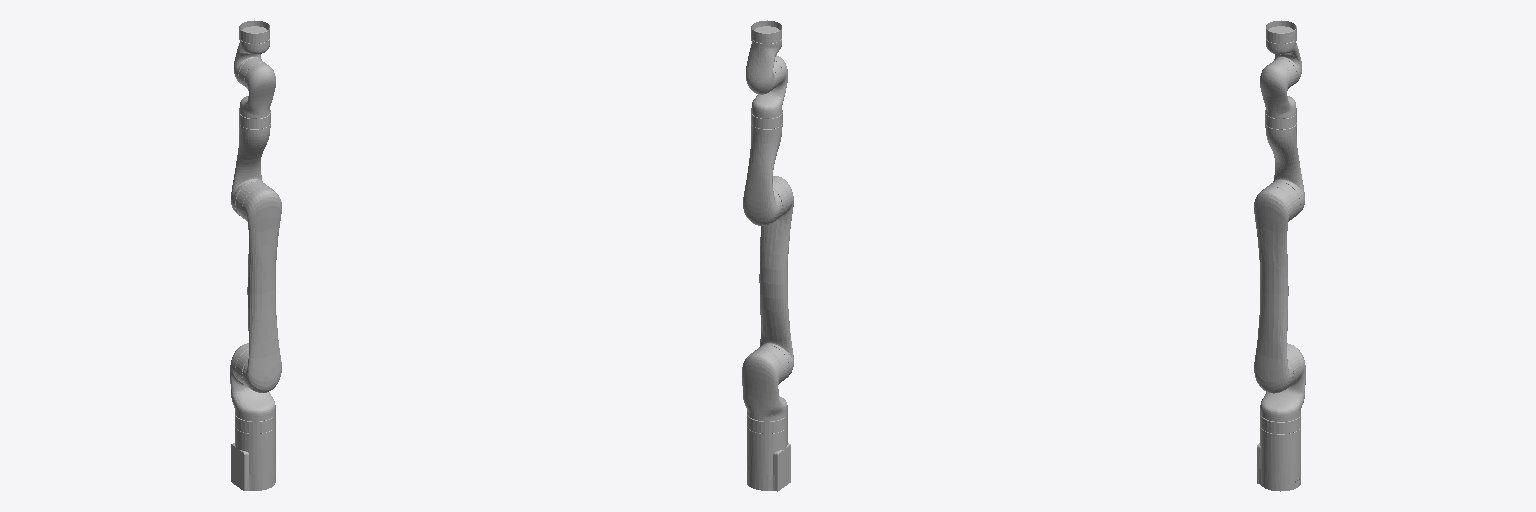
robot.urdf — GEN3-6DOF_NO-VISION_URDF_ARM_V01:
<robot name="GEN3-6DOF_NO-VISION_URDF_ARM_V01" version="1.0">
  <link name="base_link">
    <inertial>
      <origin xyz="-0.000648 -0.000166 0.084487" rpy="0 0 0" />
      <mass value="1.697" />
      <inertia ixx="0.004622" ixy="9E-06" ixz="6E-05" iyy="0.004495" iyz="9E-06" izz="0.002079" />
    </inertial>
    <visual>
      <origin xyz="0 0 0" rpy="0 0 0" />
      <geometry>
        <mesh filename="package://kortex_description/arms/gen3/6dof/meshes/base_link.STL" />
      </geometry>
      <material name="">
        <color rgba="0.75294 0.75294 0.75294 1" />
      </material>
    </visual>
    <collision>
      <origin xyz="0 0 0" rpy="0 0 0" />
      <geometry>
        <mesh filename="package://kortex_description/arms/gen3/6dof/meshes/base_link.STL" />
      </geometry>
    </collision>
  </link>
  <link name="shoulder_link">
    <inertial>
      <origin xyz="-2.3E-05 -0.010364 -0.07336" rpy="0 0 0" />
      <mass value="1.377" />
      <inertia ixx="0.00457" ixy="1E-06" ixz="2E-06" iyy="0.004831" iyz="0.000448" izz="0.001409" />
    </inertial>
    <visual>
      <origin xyz="0 0 0" rpy="0 0 0" />
      <geometry>
        <mesh filename="package://kortex_description/arms/gen3/6dof/meshes/shoulder_link.STL" />
      </geometry>
      <material name="">
        <color rgba="0.75294 0.75294 0.75294 1" />
      </material>
    </visual>
    <collision>
      <origin xyz="0 0 0" rpy="0 0 0" />
      <geometry>
        <mesh filename="package://kortex_description/arms/gen3/6dof/meshes/shoulder_link.STL" />
      </geometry>
    </collision>
  </link>
  <joint name="joint_1" type="continuous">
    <origin xyz="0 0 0.15643" rpy="-3.1416 0 0" />
    <parent link="base_link" />
    <child link="shoulder_link" />
    <axis xyz="0 0 1" />
    <limit effort="39" velocity="0.8727" />
  </joint>
  <link name="bicep_link">
    <inertial>
      <origin xyz="3.5E-05 -0.208207 -0.01889" rpy="0 0 0" />
      <mass value="1.262" />
      <inertia ixx="0.046752" ixy="-9E-06" ixz="0" iyy="0.00085" iyz="-9.8E-05" izz="0.047188" />
    </inertial>
    <visual>
      <origin xyz="0 0 0" rpy="0 0 0" />
      <geometry>
        <mesh filename="package://kortex_description/arms/gen3/6dof/meshes/bicep_link.STL" />
      </geometry>
      <material name="">
        <color rgba="0.75294 0.75294 0.75294 1" />
      </material>
    </visual>
    <collision>
      <origin xyz="0 0 0" rpy="0 0 0" />
      <geometry>
        <mesh filename="package://kortex_description/arms/gen3/6dof/meshes/bicep_link.STL" />
      </geometry>
    </collision>
  </link>
  <joint name="joint_2" type="revolute">
    <origin xyz="0 0.005375 -0.12838" rpy="1.5708 0 0" />
    <parent link="shoulder_link" />
    <child link="bicep_link" />
    <axis xyz="0 0 1" />
    <limit lower="-2.41" upper="2.41" effort="39" velocity="0.8727" />
  </joint>
  <link name="forearm_link">
    <inertial>
      <origin xyz="1.8E-05 0.076168 -0.01397" rpy="0 0 0" />
      <mass value="0.93" />
      <inertia ixx="0.008292" ixy="-1E-06" ixz="0" iyy="0.000628" iyz="0.000432" izz="0.008464" />
    </inertial>
    <visual>
      <origin xyz="0 0 0" rpy="0 0 0" />
      <geometry>
        <mesh filename="package://kortex_description/arms/gen3/6dof/meshes/forearm_link.STL" />
      </geometry>
      <material name="">
        <color rgba="0.75294 0.75294 0.75294 1" />
      </material>
    </visual>
    <collision>
      <origin xyz="0 0 0" rpy="0 0 0" />
      <geometry>
        <mesh filename="package://kortex_description/arms/gen3/6dof/meshes/forearm_link.STL" />
      </geometry>
    </collision>
  </link>
  <joint name="joint_3" type="revolute">
    <origin xyz="0 -0.41 0" rpy="3.1416 0 0" />
    <parent link="bicep_link" />
    <child link="forearm_link" />
    <axis xyz="0 0 1" />
    <limit lower="-2.66" upper="2.66" effort="39" velocity="0.8727" />
  </joint>
  <link name="spherical_wrist_1_link">
    <inertial>
      <origin xyz="-1E-06 0.008486 -0.062937" rpy="0 0 0" />
      <mass value="0.678" />
      <inertia ixx="0.001645" ixy="0" ixz="0" iyy="0.001666" iyz="-0.000234" izz="0.000389" />
    </inertial>
    <visual>
      <origin xyz="0 0 0" rpy="0 0 0" />
      <geometry>
        <mesh filename="package://kortex_description/arms/gen3/6dof/meshes/spherical_wrist_1_link.STL" />
      </geometry>
      <material name="">
        <color rgba="0.75294 0.75294 0.75294 1" />
      </material>
    </visual>
    <collision>
      <origin xyz="0 0 0" rpy="0 0 0" />
      <geometry>
        <mesh filename="package://kortex_description/arms/gen3/6dof/meshes/spherical_wrist_1_link.STL" />
      </geometry>
    </collision>
  </link>
  <joint name="joint_4" type="continuous">
    <origin xyz="0 0.20843 -0.006375" rpy="1.5708 0 0" />
    <parent link="forearm_link" />
    <child link="spherical_wrist_1_link" />
    <axis xyz="0 0 1" />
    <limit effort="9" velocity="0.8727" />
  </joint>
  <link name="spherical_wrist_2_link">
    <inertial>
      <origin xyz="-1E-06 0.046429 -0.008704" rpy="0 0 0" />
      <mass value="0.678" />
      <inertia ixx="0.001685" ixy="0" ixz="0" iyy="0.0004" iyz="0.000255" izz="0.001696" />
    </inertial>
    <visual>
      <origin xyz="0 0 0" rpy="0 0 0" />
      <geometry>
        <mesh filename="package://kortex_description/arms/gen3/6dof/meshes/spherical_wrist_2_link.STL" />
      </geometry>
      <material name="">
        <color rgba="0.75294 0.75294 0.75294 1" />
      </material>
    </visual>
    <collision>
      <origin xyz="0 0 0" rpy="0 0 0" />
      <geometry>
        <mesh filename="package://kortex_description/arms/gen3/6dof/meshes/spherical_wrist_2_link.STL" />
      </geometry>
    </collision>
  </link>
  <joint name="joint_5" type="revolute">
    <origin xyz="0 -0.00017505 -0.10593" rpy="-1.5708 0 0" />
    <parent link="spherical_wrist_1_link" />
    <child link="spherical_wrist_2_link" />
    <axis xyz="0 0 1" />
    <limit lower="-2.23" upper="2.23" effort="9" velocity="0.8727" />
  </joint>
  <link name="bracelet_link">
    <inertial>
      <origin xyz="-9.3E-05 0.000132 -0.022905" rpy="0 0 0" />
      <mass value="0.364" />
      <inertia ixx="0.000214" ixy="0" ixz="1E-06" iyy="0.000223" iyz="-2E-06" izz="0.00024" />
    </inertial>
    <visual>
      <origin xyz="0 0 0" rpy="0 0 0" />
      <geometry>
        <mesh filename="package://kortex_description/arms/gen3/6dof/meshes/bracelet_no_vision_link.STL" />
      </geometry>
      <material name="">
        <color rgba="0.75294 0.75294 0.75294 1" />
      </material>
    </visual>
    <collision>
      <origin xyz="0 0 0" rpy="0 0 0" />
      <geometry>
        <mesh filename="package://kortex_description/arms/gen3/6dof/meshes/bracelet_no_vision_link.STL" />
      </geometry>
    </collision>
  </link>
  <joint name="joint_6" type="continuous">
    <origin xyz="0 0.10593 -0.00017505" rpy="1.5708 0 0" />
    <parent link="spherical_wrist_2_link" />
    <child link="bracelet_link" />
    <axis xyz="0 0 1" />
    <limit effort="9" velocity="0.8727" />
  </joint>
  <link name="EndEffector_Link" />
  <joint name="EndEffector" type="fixed">
    <origin xyz="0 0 -0.061525" rpy="3.1416 0 -3.1416" />
    <parent link="bracelet_link" />
    <child link="EndEffector_Link" />
    <axis xyz="0 0 0" />
  </joint>
</robot>

--- What the picture shows (computed from the rendered views, not written in the file) ---
The picture shows the robot from 3 angles, left to right: view 1: azimuth 30°, elevation 25°; view 2: azimuth 150°, elevation 25°; view 3: azimuth 330°, elevation 25°; orthographic projection.
Model GEN3-6DOF_NO-VISION_URDF_ARM_V01 with 8 links and 7 joints (3 revolute, 3 continuous, 1 fixed), rooted at base_link, posed every joint at zero.
Visible links, largest first — view 1: bicep_link, base_link, forearm_link, shoulder_link, spherical_wrist_1_link, spherical_wrist_2_link; view 2: bicep_link, forearm_link, base_link, shoulder_link, spherical_wrist_2_link, spherical_wrist_1_link; view 3: bicep_link, base_link, forearm_link, shoulder_link, spherical_wrist_1_link, spherical_wrist_2_link.
Link boxes in pixels (<box>): bicep_link: <box>236,181,281,392</box>; base_link: <box>231,414,275,490</box>; forearm_link: <box>231,112,270,215</box>; shoulder_link: <box>230,343,275,421</box>; spherical_wrist_1_link: <box>239,58,275,118</box>; spherical_wrist_2_link: <box>234,20,269,83</box>; bicep_link: <box>759,176,793,377</box>; forearm_link: <box>743,112,782,225</box>; base_link: <box>747,414,790,491</box>; shoulder_link: <box>742,345,788,421</box>; spherical_wrist_2_link: <box>746,20,781,94</box>; spherical_wrist_1_link: <box>751,55,787,118</box>; bicep_link: <box>1254,182,1299,393</box>; base_link: <box>1257,414,1300,491</box>; forearm_link: <box>1265,112,1304,213</box>; shoulder_link: <box>1260,343,1305,421</box>; spherical_wrist_1_link: <box>1260,58,1296,118</box>; spherical_wrist_2_link: <box>1266,20,1301,83</box>.
Size in the robot's own frame: 0.0928 by 0.1127 by 1.13 metres.
Meshes: 7 distinct files referenced, 6 mesh visuals loaded (6 binary STL); not drawn: 1 (reference not matched to a file when rendering).